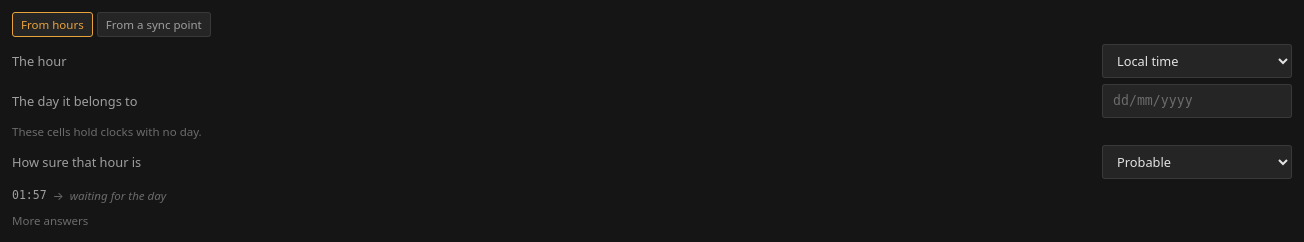
the hours form, as one mode of the pass › reads one row back, which is how the day and the zone are checked
The width and height of the screenshot is (1304, 242).
Step 1. Type "2026-01-03" into the field named "The day these hours belong to" → (1197, 101), box [1102,84,1292,118]
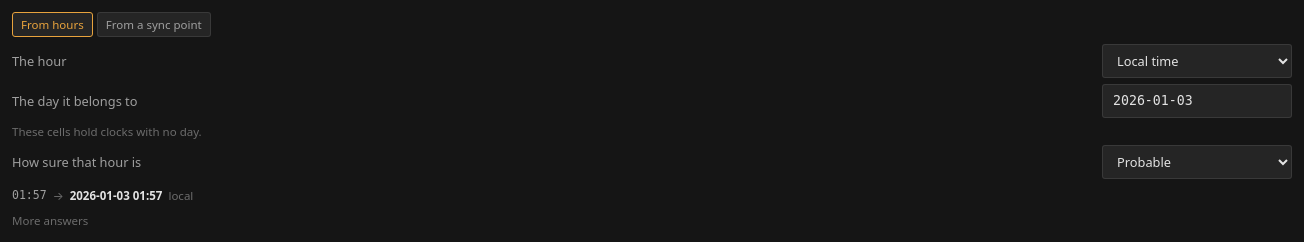
Result: the text "2026-01-03 01:57 local" is shown at [12,188,193,203]
